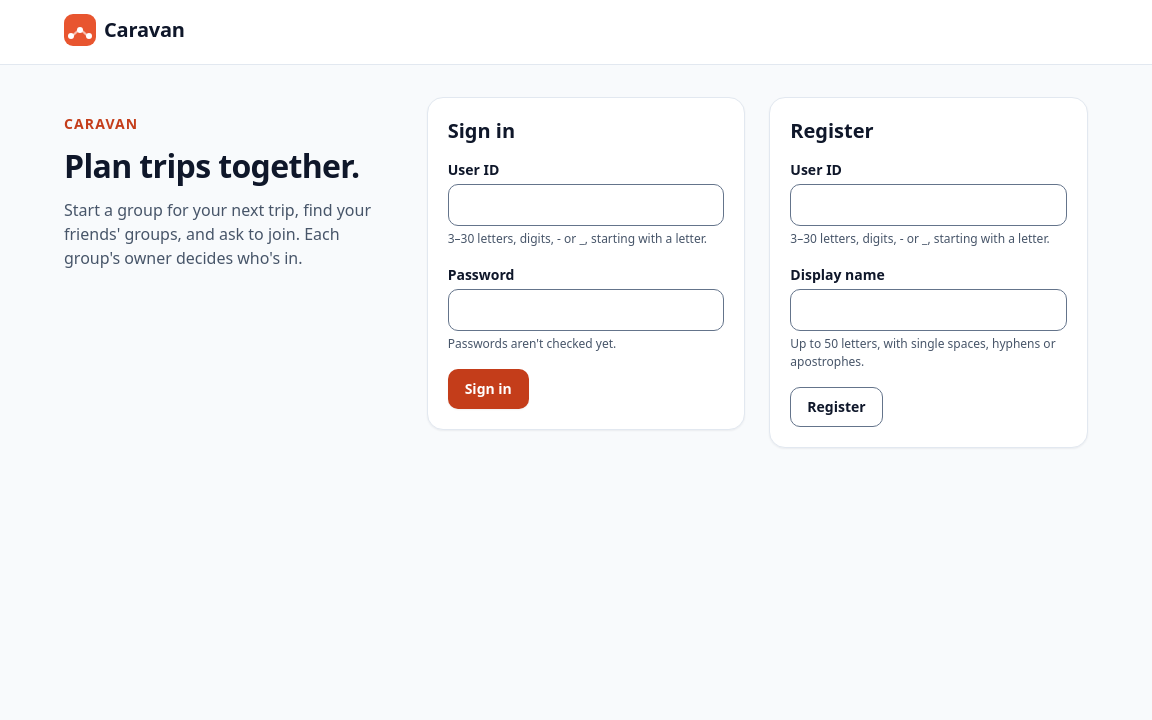
Test: registering › registers the trimmed values and says to sign in
Expected: the heading "Sign in" is shown, x1=448 y1=117 x2=515 y2=144
Step 1. Type " ada " into the 2nd field labelled "User ID" → (929, 205), box x1=790 y1=184 x2=1067 y2=226
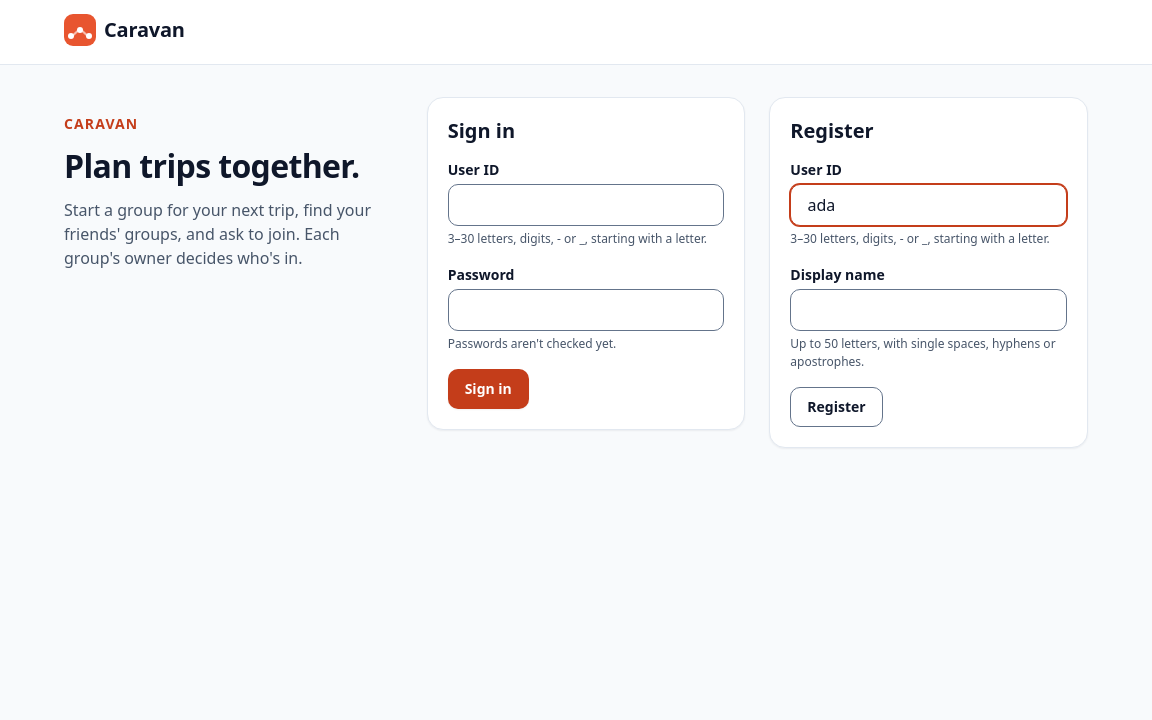
Step 2. Type " Ada Lovelace " into the field labelled "Display name" → (929, 310), box x1=790 y1=289 x2=1067 y2=331
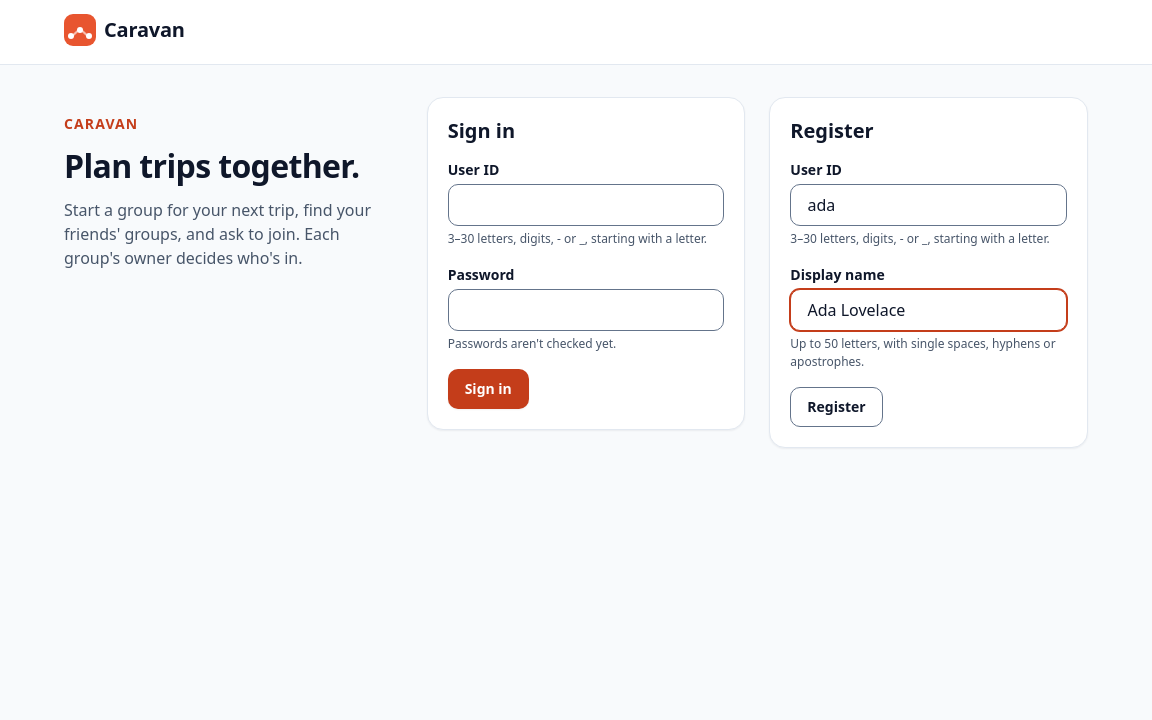
Step 3. Click the button "Register" → click(836, 407), box x1=790 y1=387 x2=883 y2=427
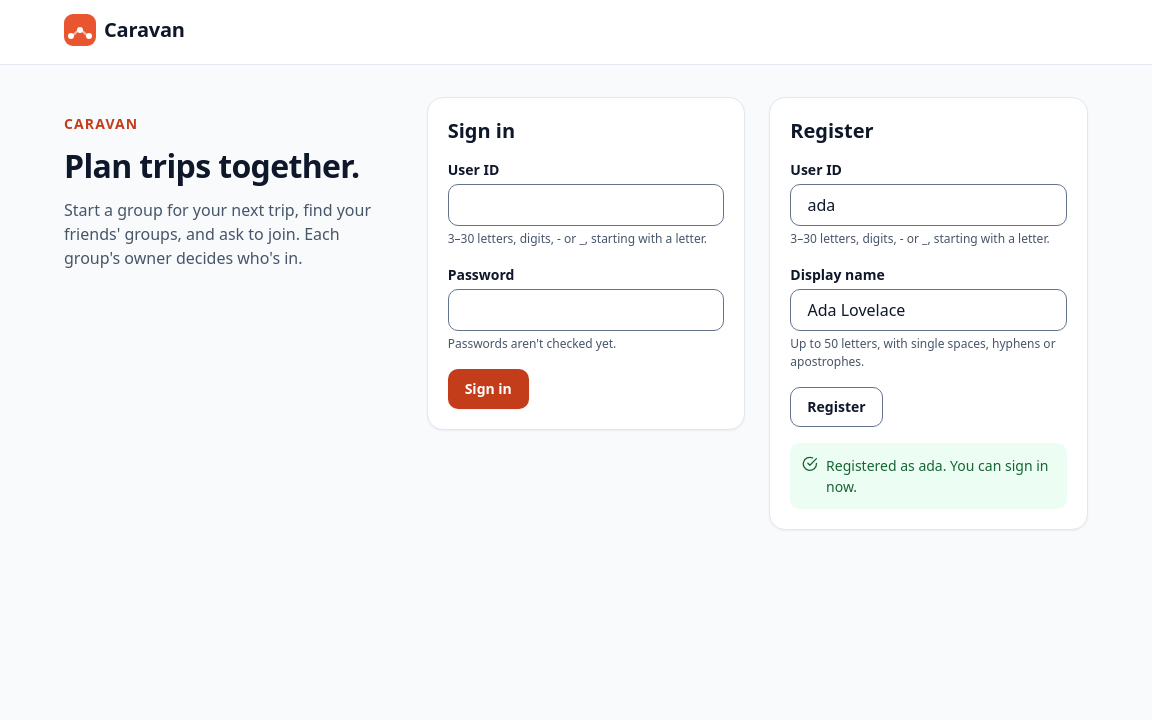
Result: the message reads "Registered as ada. You can sign in now." at x1=826 y1=456 x2=1048 y2=496
